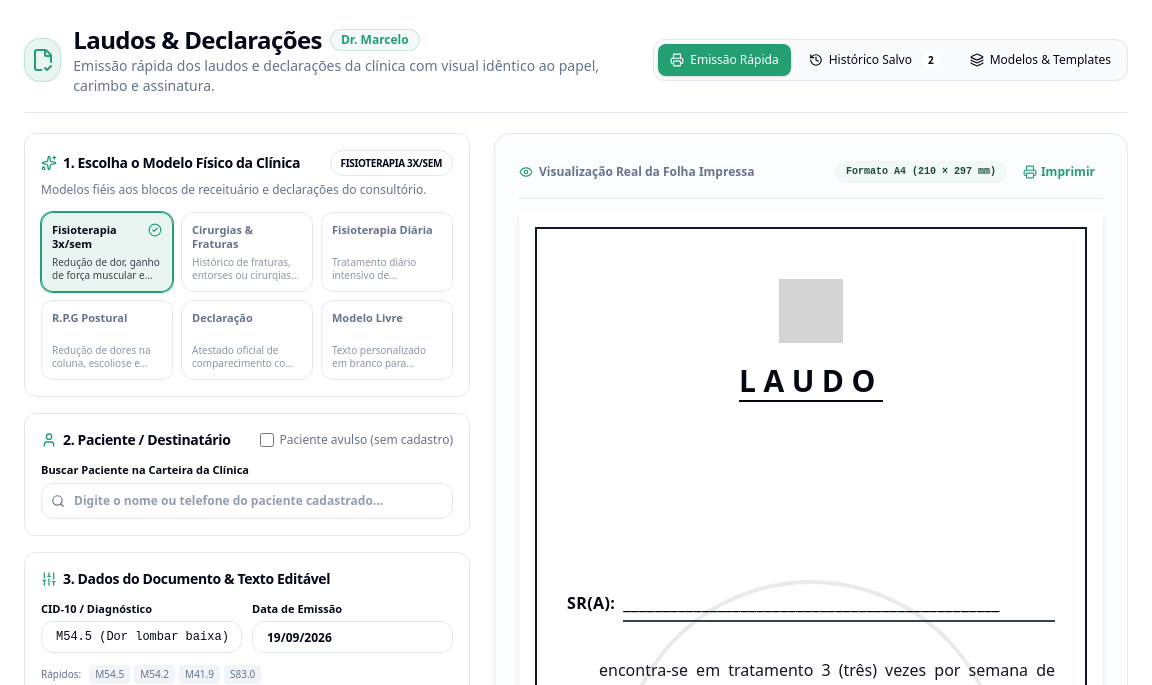
Test: Permite alternar entre os 5 modelos oficiais das fotos com atualização do texto e dos campos
The width and height of the screenshot is (1152, 685).
# Clicar no modelo Cirurgias & Fraturas
What coordinates should you click on to do the following:
click the button "Cirurgias & Fraturas"
I would click on:
 (247, 252)
Its box is [181,212,313,292].
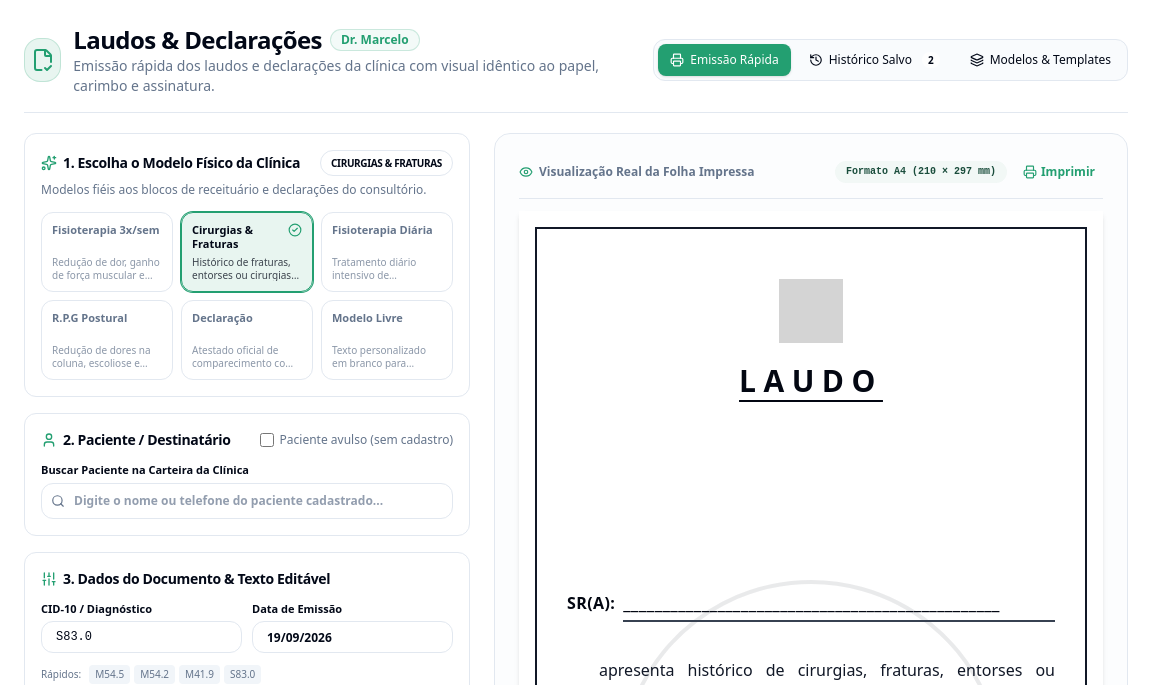
# Clicar no modelo Fisioterapia Diária
What coordinates should you click on to do the following:
click the button "Fisioterapia Diária"
I would click on:
 (387, 252)
Its box is [321,212,453,292].
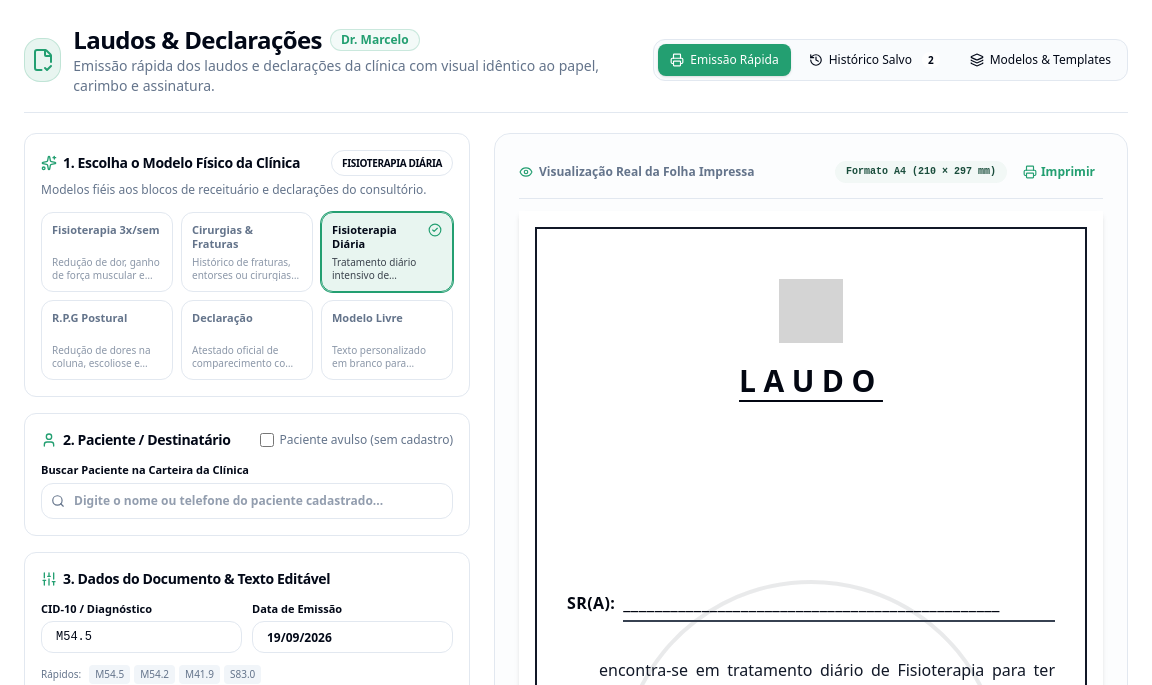
What coordinates should you click on to do the following:
click the button "R.P.G Postural"
I would click on:
 (107, 340)
Its box is [41,300,173,380].
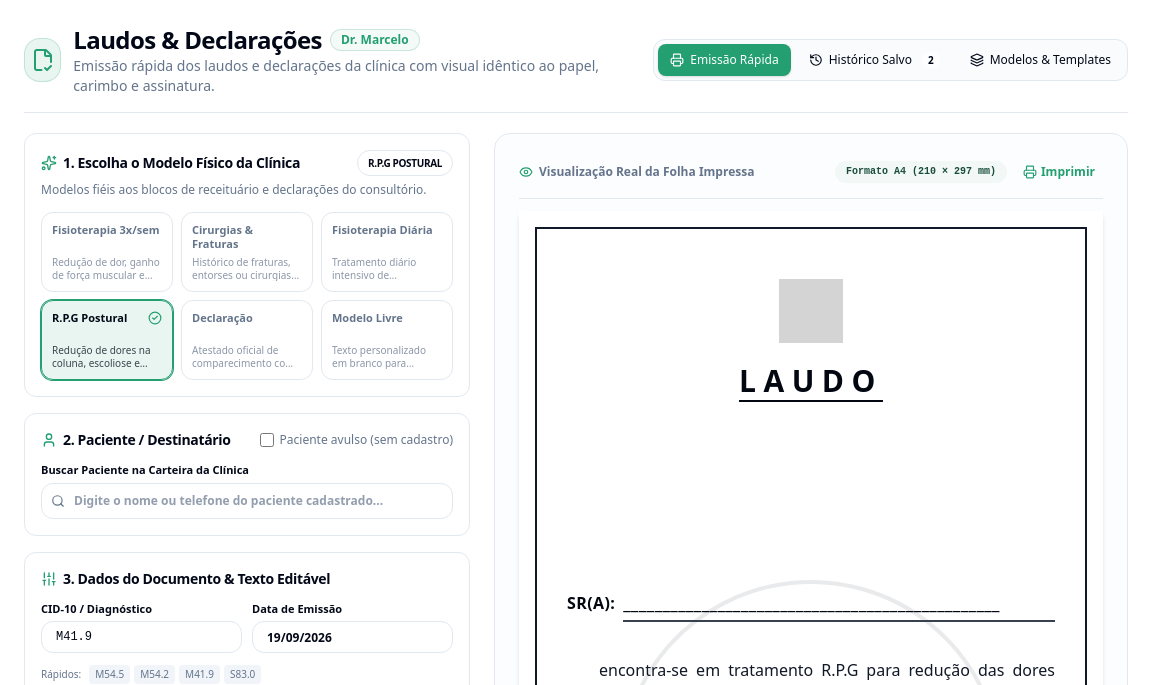
# Clicar no modelo Declaração de Comparecimento
What coordinates should you click on to do the following:
click the button "Declaração"
I would click on:
 (247, 340)
Its box is [181,300,313,380].
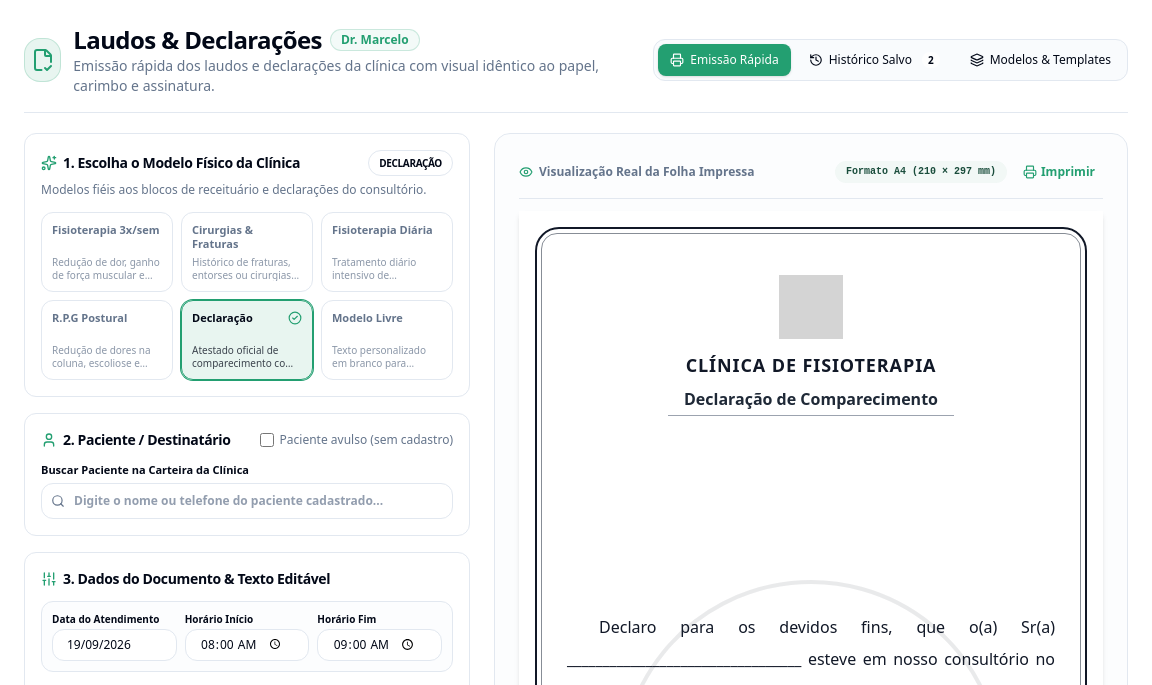
Now the text "Horário Início" is shown, box [185,612,253,626]
Now the text "Horário Fim" is shown, box [317,612,376,626]
